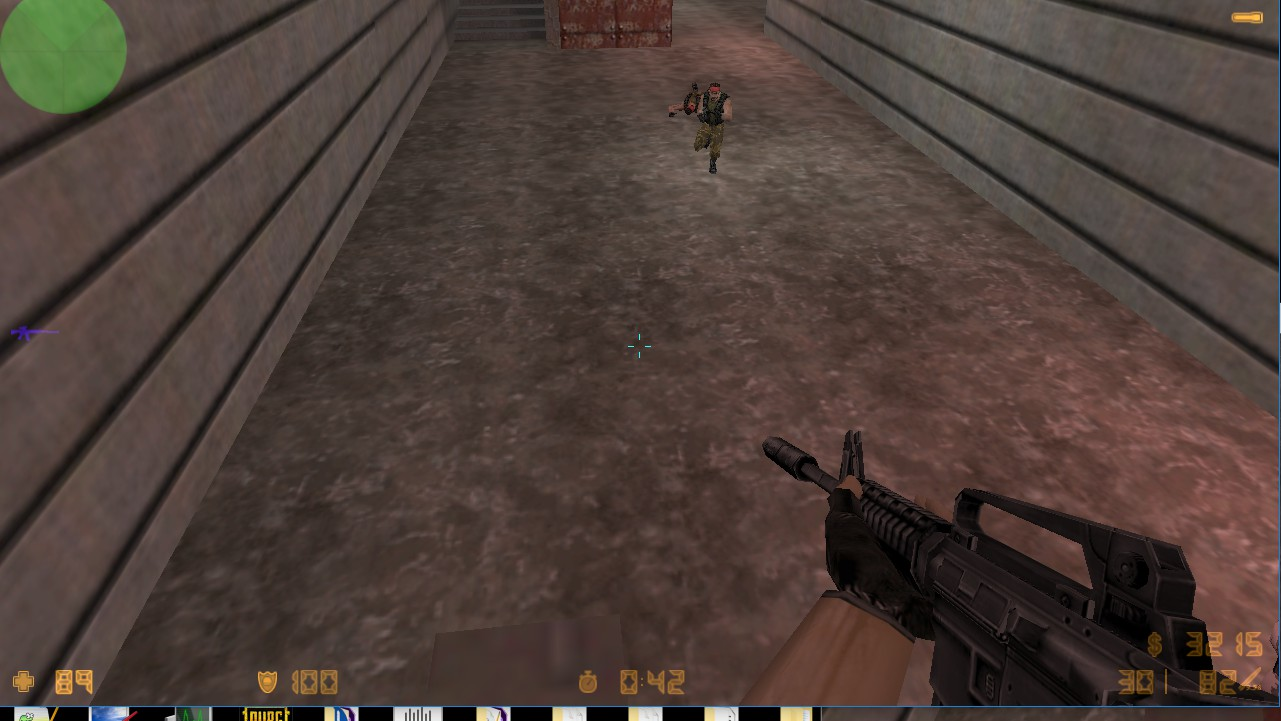person: (690, 81, 736, 179)
